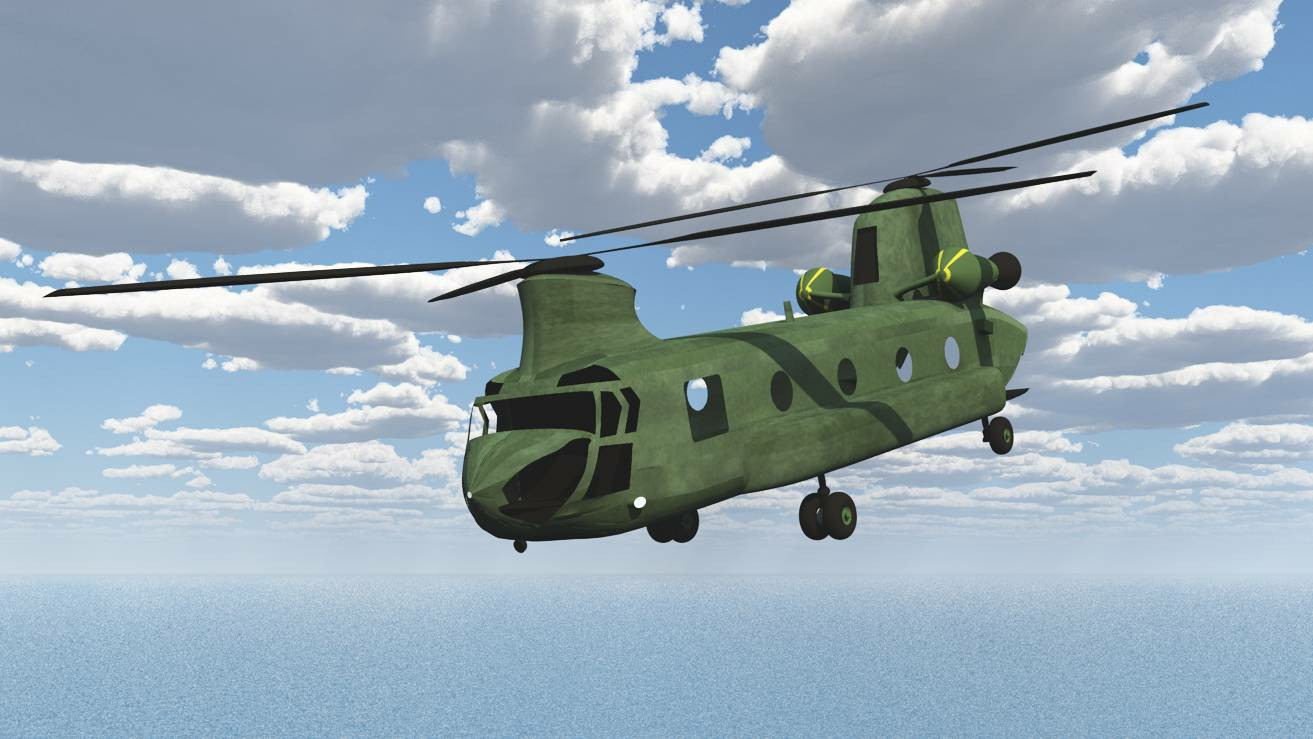chinook: (291, 143, 1187, 564)
